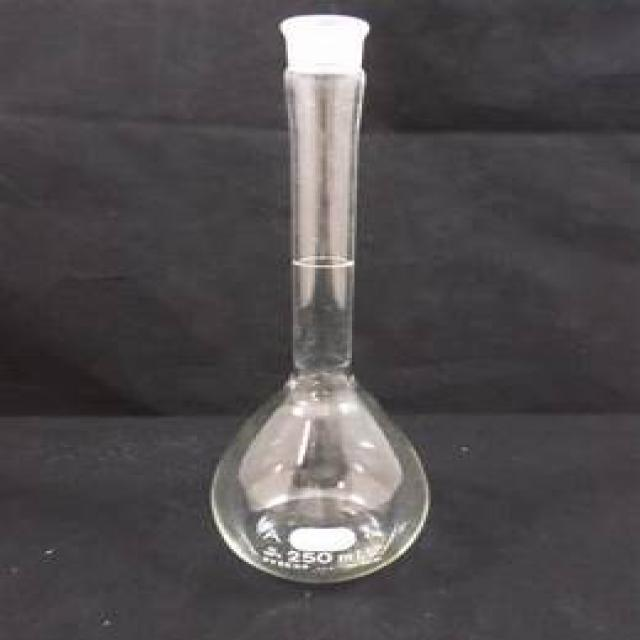Volumetric flask: (196, 8, 434, 586)
